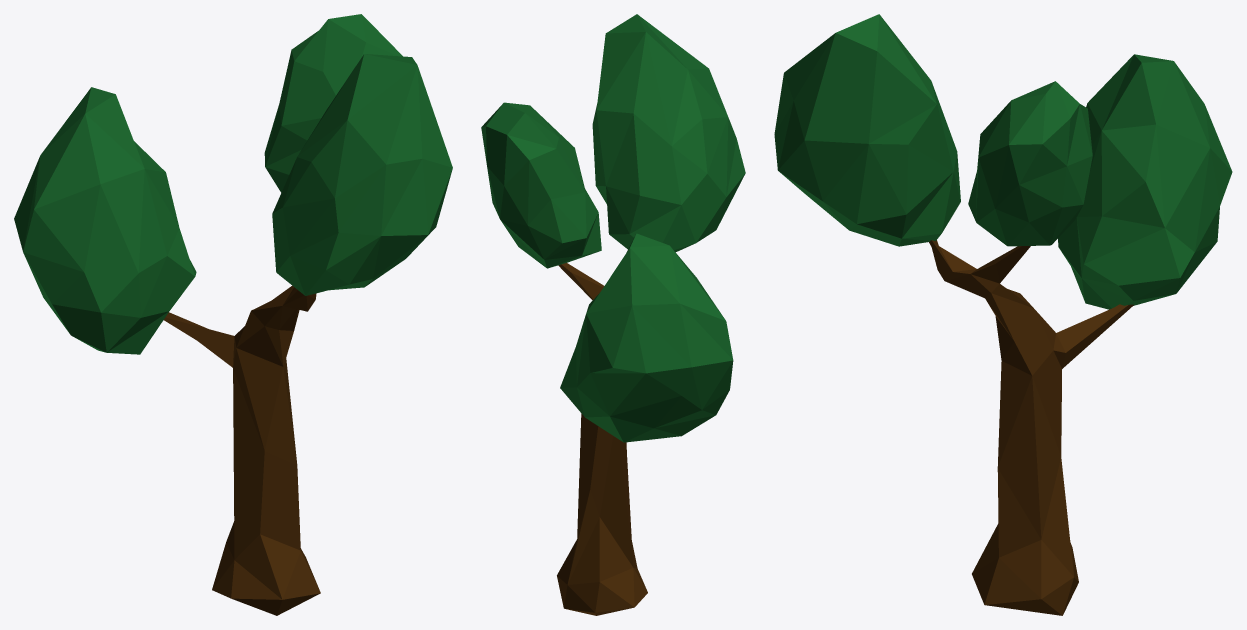
The model's file is TreeLeaf_1.fbx.
3 renders of one model, left to right at view 1: azimuth 30°, elevation 25°; view 2: azimuth 150°, elevation 25°; view 3: azimuth 270°, elevation 25°, orthographic. The views are drawn at different scales.
Parts seen in each view (by area): view 1: Icosphere; view 2: Icosphere; view 3: Icosphere.
Part boxes in pixels (left/top/right/bottom): Icosphere: left=14, top=14, right=452, bottom=615; Icosphere: left=481, top=14, right=745, bottom=615; Icosphere: left=774, top=14, right=1232, bottom=615.
Bounding box in the file's own units: 706 × 1237 × 843.
